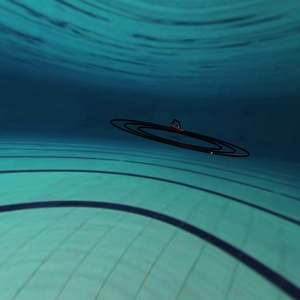circle: (100, 105, 255, 171)
submarine: (165, 115, 193, 141)
